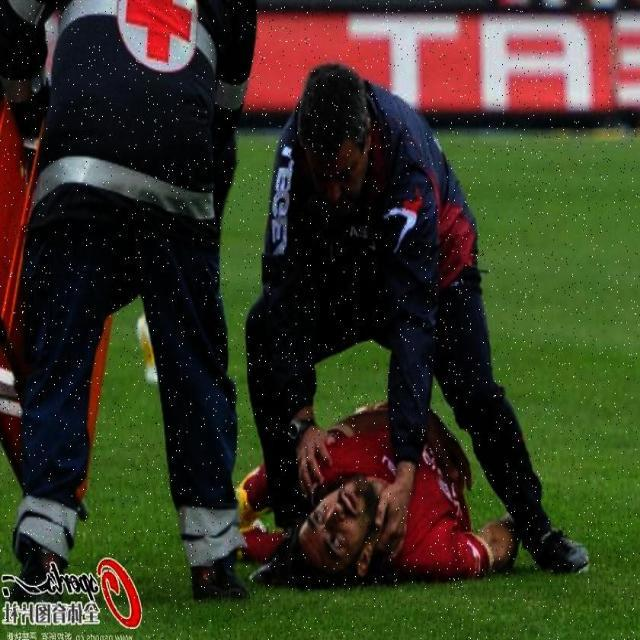fall: (240, 413, 494, 589)
